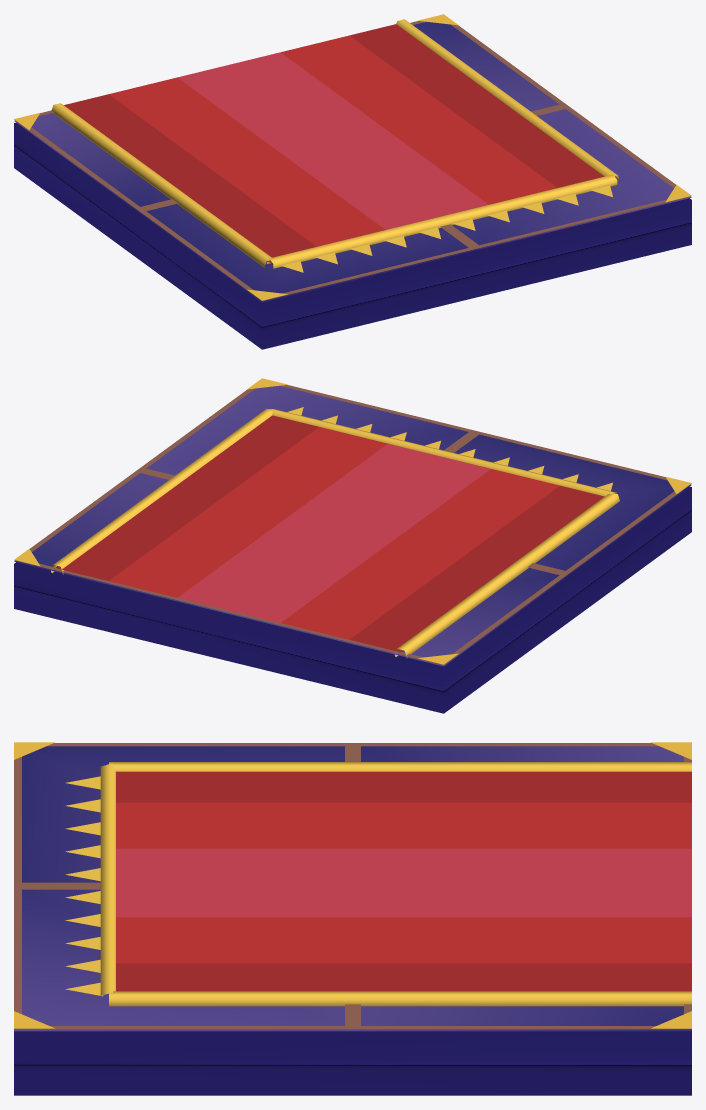
File: tile_red_carpet_end.glb
3 views of the same model, one above another, from view 1: azimuth 30°, elevation 25°; view 2: azimuth 150°, elevation 25°; view 3: azimuth 270°, elevation 25° (orthographic). The views are drawn at different scales.
Visible parts, largest first — view 1: Tile.001; view 2: Tile.001; view 3: Tile.001.
Boxes of the visible parts, x1=… form: Tile.001: x1=14, y1=14, x2=691, y2=349; Tile.001: x1=14, y1=378, x2=691, y2=713; Tile.001: x1=14, y1=742, x2=691, y2=1095.
Size of the model in its own units: 1 by 0.1213 by 1.
